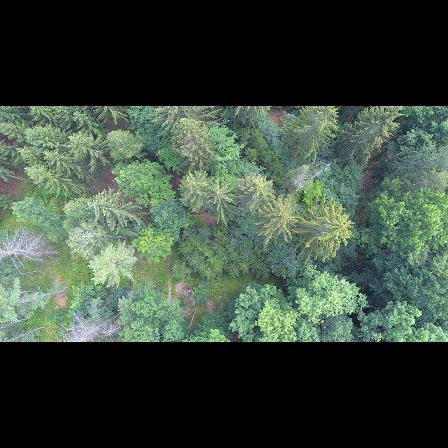Dead: (0, 226, 67, 271), (56, 303, 128, 342), (288, 160, 335, 194)
